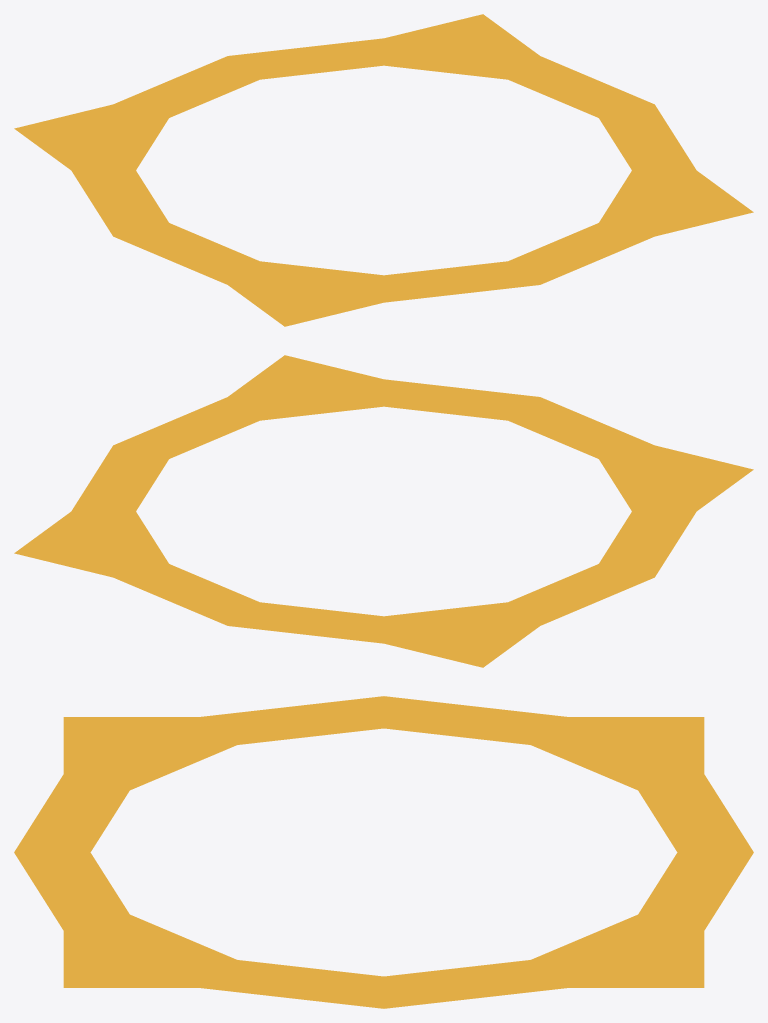
Rendered from indicator-round-c.glb.
3 renders of one model, top to bottom at view 1: azimuth 30°, elevation 25°; view 2: azimuth 150°, elevation 25°; view 3: azimuth 270°, elevation 25°, orthographic. The views are drawn at different scales.
Parts seen in each view (by area): view 1: rotate-y; view 2: rotate-y; view 3: rotate-y.
Part boxes in pixels (<box>): rotate-y: <box>14,14,753,326</box>; rotate-y: <box>14,355,753,667</box>; rotate-y: <box>14,696,753,1008</box>.
Size of the model in its own units: 1 by 0 by 1.
Materials: 1 (1 with a texture image).
